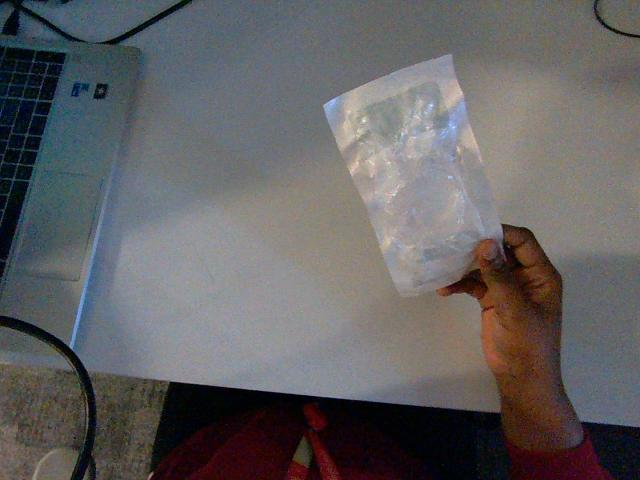gallipot: (324, 55, 502, 295)
